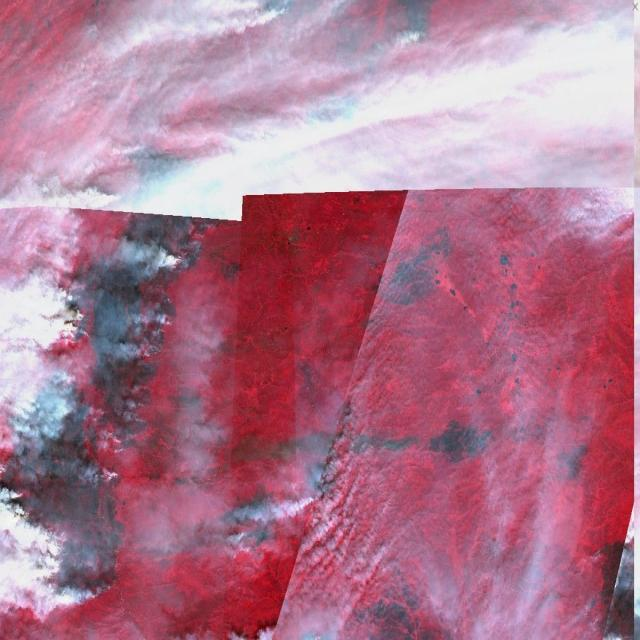fire: (38, 531, 116, 609), (101, 379, 141, 468), (136, 298, 174, 364), (134, 240, 190, 273), (292, 484, 318, 516)
